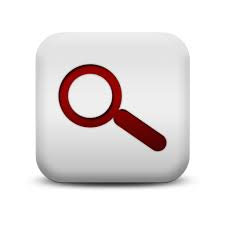searchIcon: (54, 60, 168, 156)
